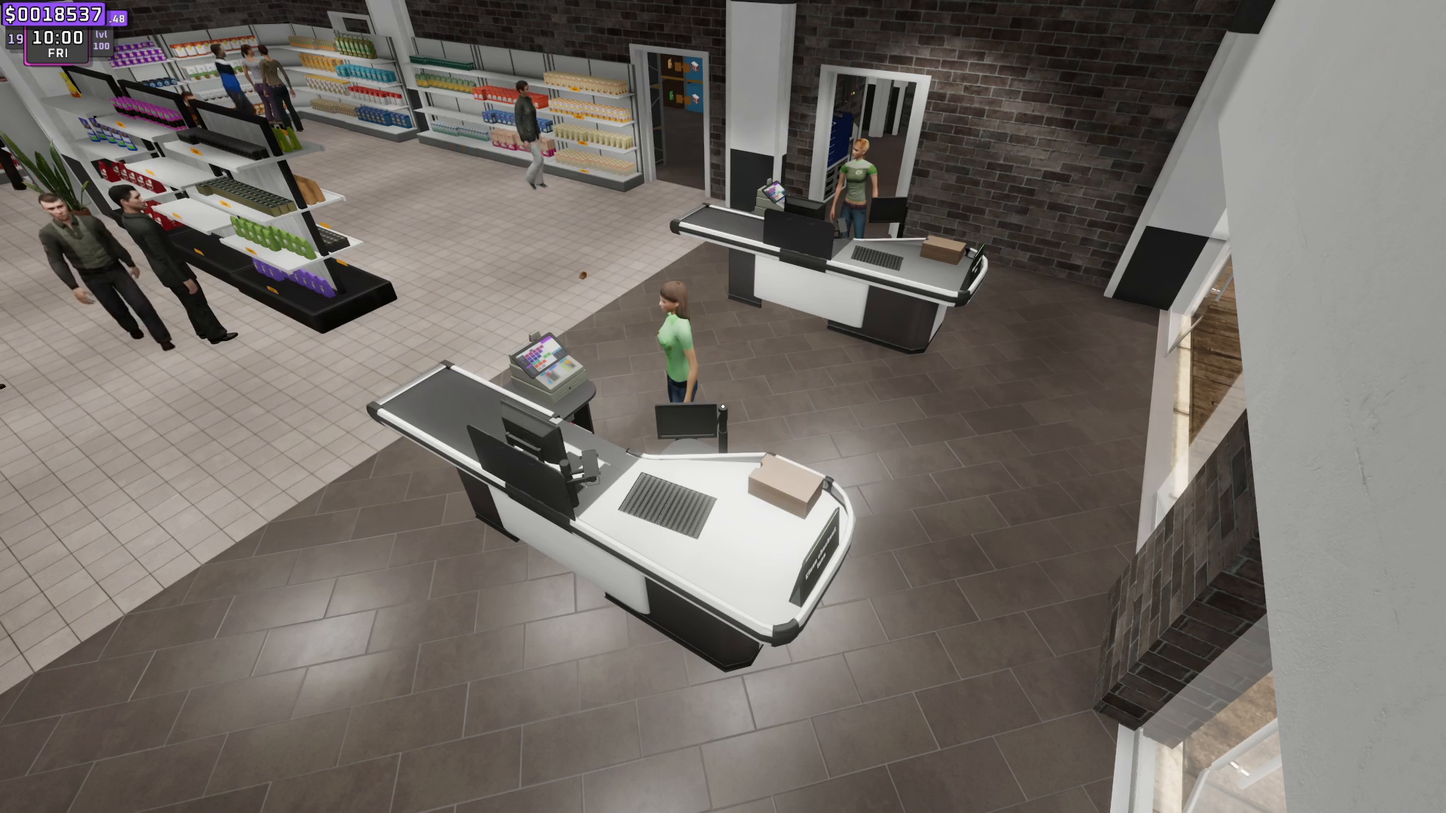Employee: (652, 280, 700, 396), (841, 139, 875, 226)
